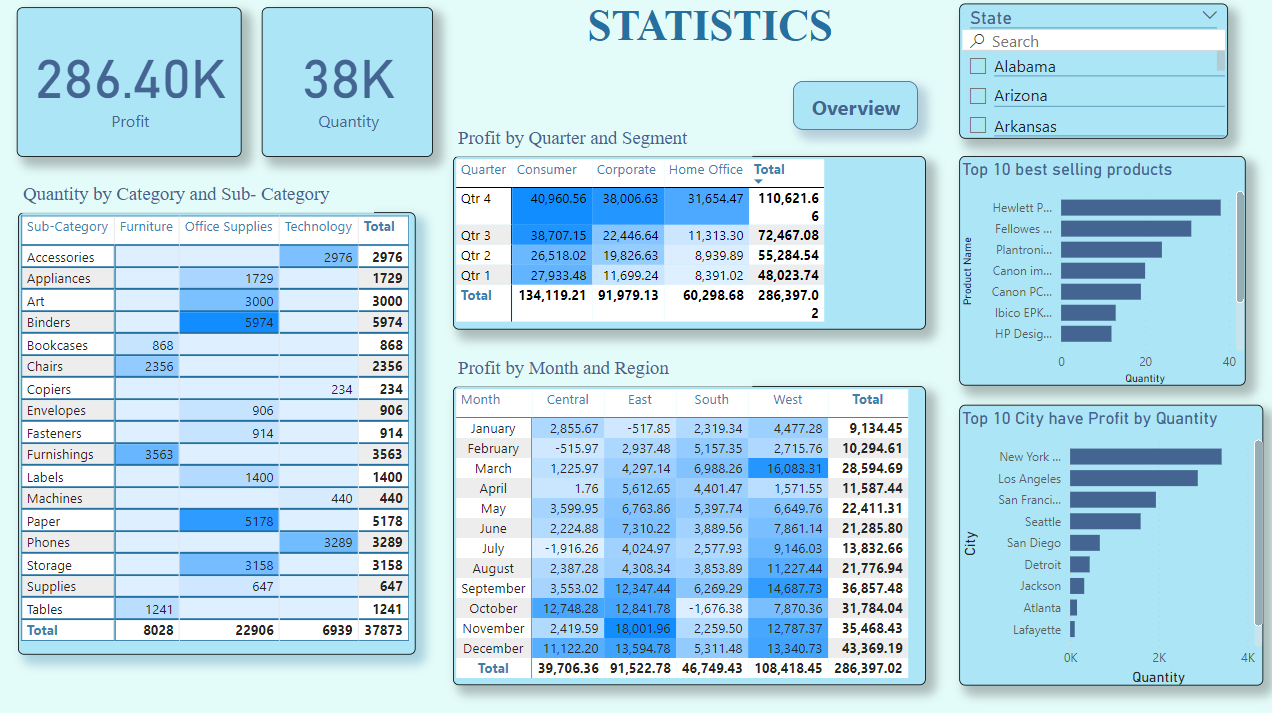

The page's visual inventory and layout, read from the dashboard file:
{"tool":"powerbi","page":{"name":"Statistics","canvas":[1280,720],"ordinal":1},"visuals":[{"type":"pivotTable","fields":{"Columns":["superstore.Category"],"Rows":["superstore.Sub-Category"],"Values":["Sum(superstore.Quantity)"]},"box":[19.6,216.4,397.3,442.5],"z":0},{"type":"textbox","box":[573.8,0,283.8,67.5],"z":1000},{"type":"pivotTable","fields":{"Rows":["superstore.Order Date.Variation.Date Hierarchy.Month"],"Columns":["superstore.Region"],"Values":["Sum(superstore.Profit)"]},"box":[454.7,389.9,473.1,299.5],"z":2000},{"type":"slicer","fields":{"Values":["superstore.State"]},"box":[960.8,0,268.9,134.5],"z":3000},{"type":"card","fields":{"Values":["Sum(superstore.Profit)"]},"box":[19.2,11,225,149.6],"z":4000},{"type":"card","fields":{"Values":["Sum(superstore.Quantity)"]},"box":[263.5,11,171.5,149.6],"z":5000},{"type":"pivotTable","fields":{"Rows":["superstore.Order Date.Variation.Date Hierarchy.Quarter"],"Values":["Sum(superstore.Profit)"],"Columns":["superstore.Segment"]},"box":[454.7,160.1,473.1,173.6],"z":6000},{"type":"barChart","title":"Top 10 City have Profit by Quantity","fields":{"Category":["superstore.City"],"Y":["Sum(superstore.Quantity)"]},"box":[960.8,408.3,304.4,281.2],"z":7000},{"type":"barChart","title":"Top 10 best selling products","fields":{"Category":["superstore.Product Name"],"Y":["Sum(superstore.Quantity)"]},"box":[960.8,160.1,286,229.8],"z":8000},{"type":"textbox","box":[454.7,355.7,299.5,34.2],"z":9000},{"type":"textbox","box":[454.7,125.9,299.5,34.2],"z":10000},{"type":"textbox","box":[19.6,182.1,355.7,34.2],"z":11000},{"type":"actionButton","box":[794.6,85.6,124.7,48.9],"z":12000}]}

Visuals, with their boxes in screenshot pixels (x1, y1, x2, y2), scaled from the page's 1280x720 canvas onto the 1274x714 screenshot:
pivotTable - superstore.Category x superstore.Sub-Category: pyautogui.locateOnScreen(20, 215, 415, 653)
textbox: pyautogui.locateOnScreen(571, 0, 854, 67)
pivotTable - superstore.Order Date.Variation.Date Hierarchy.Month x superstore.Region: pyautogui.locateOnScreen(453, 387, 923, 684)
slicer - superstore.State: pyautogui.locateOnScreen(956, 0, 1224, 133)
card - Sum(superstore.Profit): pyautogui.locateOnScreen(19, 11, 243, 159)
card - Sum(superstore.Quantity): pyautogui.locateOnScreen(262, 11, 433, 159)
pivotTable - superstore.Order Date.Variation.Date Hierarchy.Quarter x Sum(superstore.Profit): pyautogui.locateOnScreen(453, 159, 923, 331)
"Top 10 City have Profit by Quantity" barChart: pyautogui.locateOnScreen(956, 405, 1259, 684)
"Top 10 best selling products" barChart: pyautogui.locateOnScreen(956, 159, 1241, 387)
textbox: pyautogui.locateOnScreen(453, 353, 751, 387)
textbox: pyautogui.locateOnScreen(453, 125, 751, 159)
textbox: pyautogui.locateOnScreen(20, 181, 374, 214)
actionButton: pyautogui.locateOnScreen(791, 85, 915, 133)
